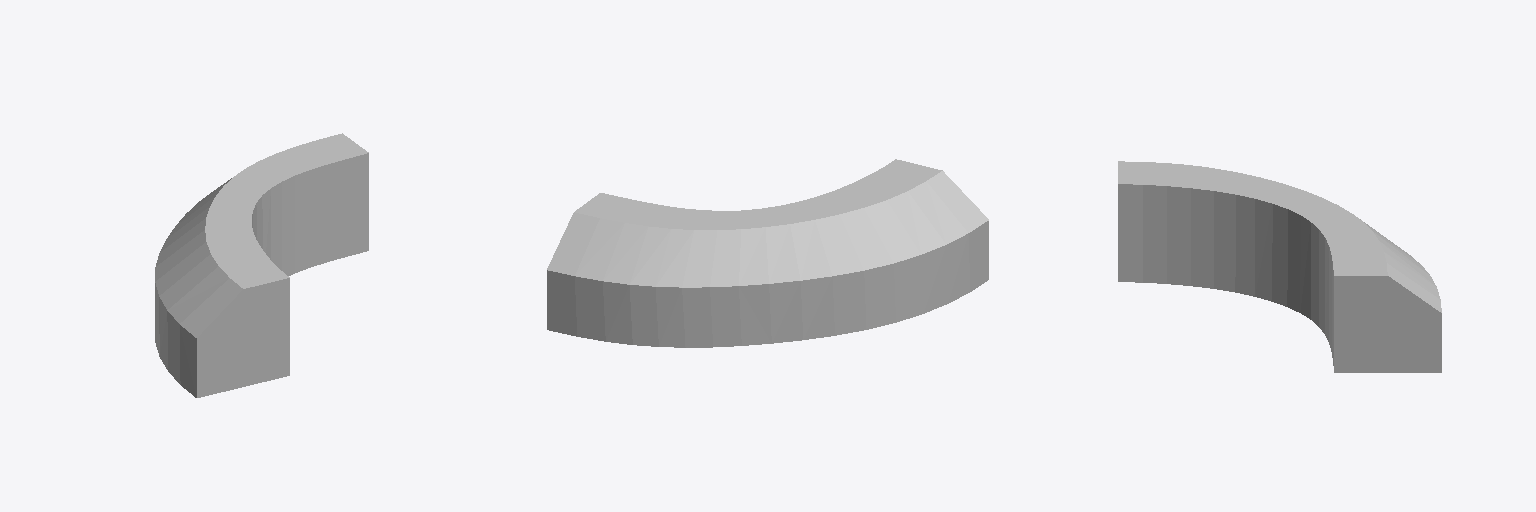
The model's file is Inside_Bend_LP.obj.
3 renders of one model, left to right at view 1: azimuth 30°, elevation 25°; view 2: azimuth 150°, elevation 25°; view 3: azimuth 270°, elevation 25°, orthographic.
Parts seen in each view (by area): view 1: Inside_Bend_LP; view 2: Inside_Bend_LP; view 3: Inside_Bend_LP.
Part boxes in pixels (x1,y1,x2,y2): Inside_Bend_LP: (155, 133, 368, 397); Inside_Bend_LP: (547, 159, 988, 347); Inside_Bend_LP: (1118, 161, 1441, 372).
Size of the model in its own units: 3 by 1 by 3.